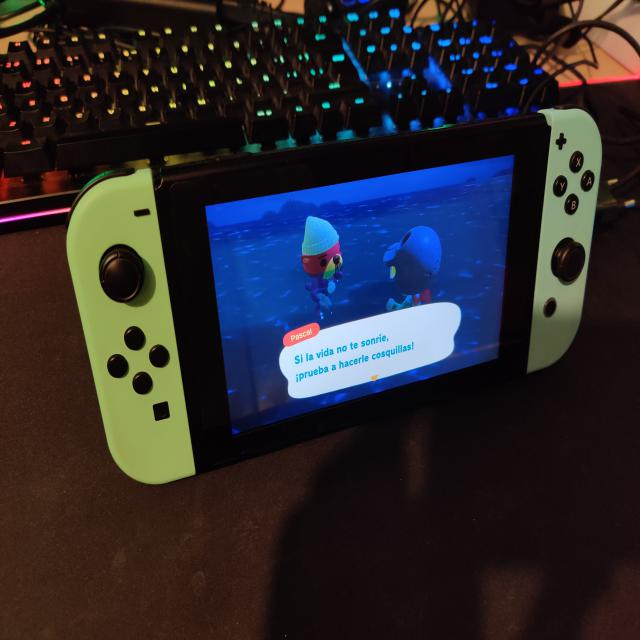text_bubble: (279, 300, 465, 403)
